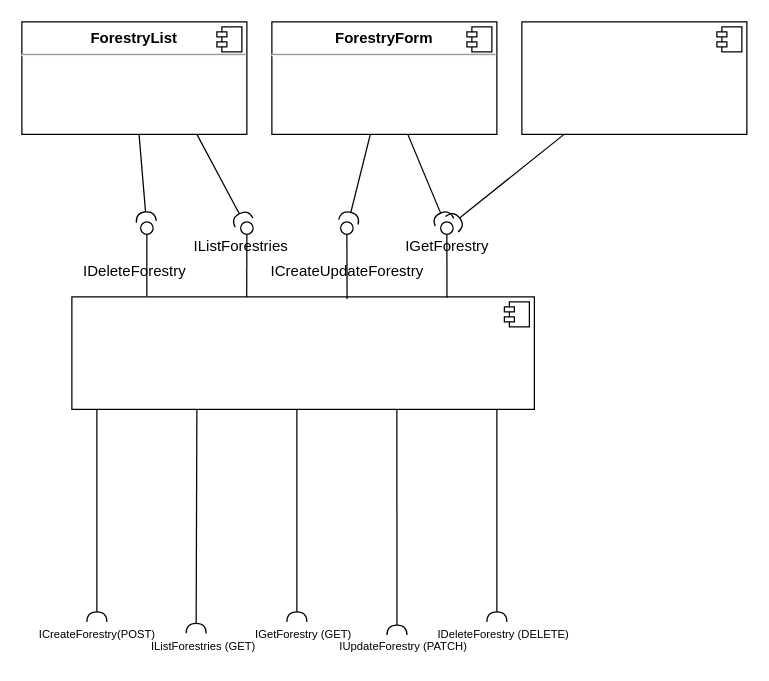
Image size: 769x681. Some labels were removed from this diagram. The box of each missing label's shape, as (x1, y1, x2, y2) in pixels:
ForestryDetails: (521, 21, 747, 134)
ForestryService: (71, 296, 534, 409)
